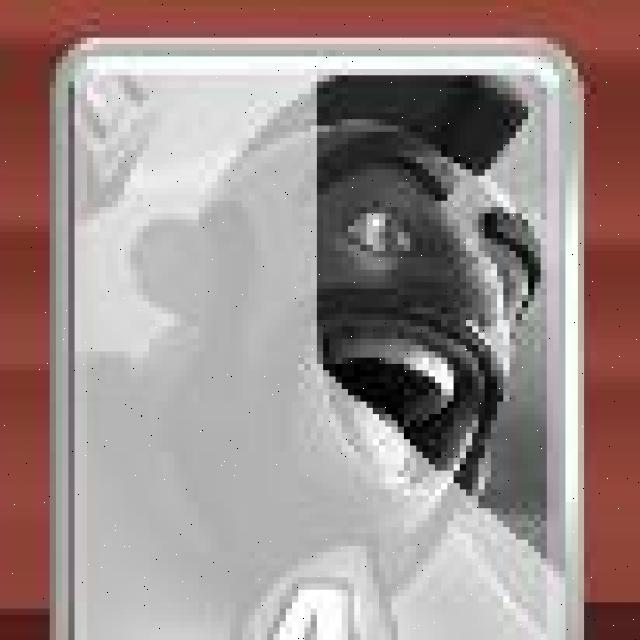Hog_Rider: (51, 41, 585, 640)
